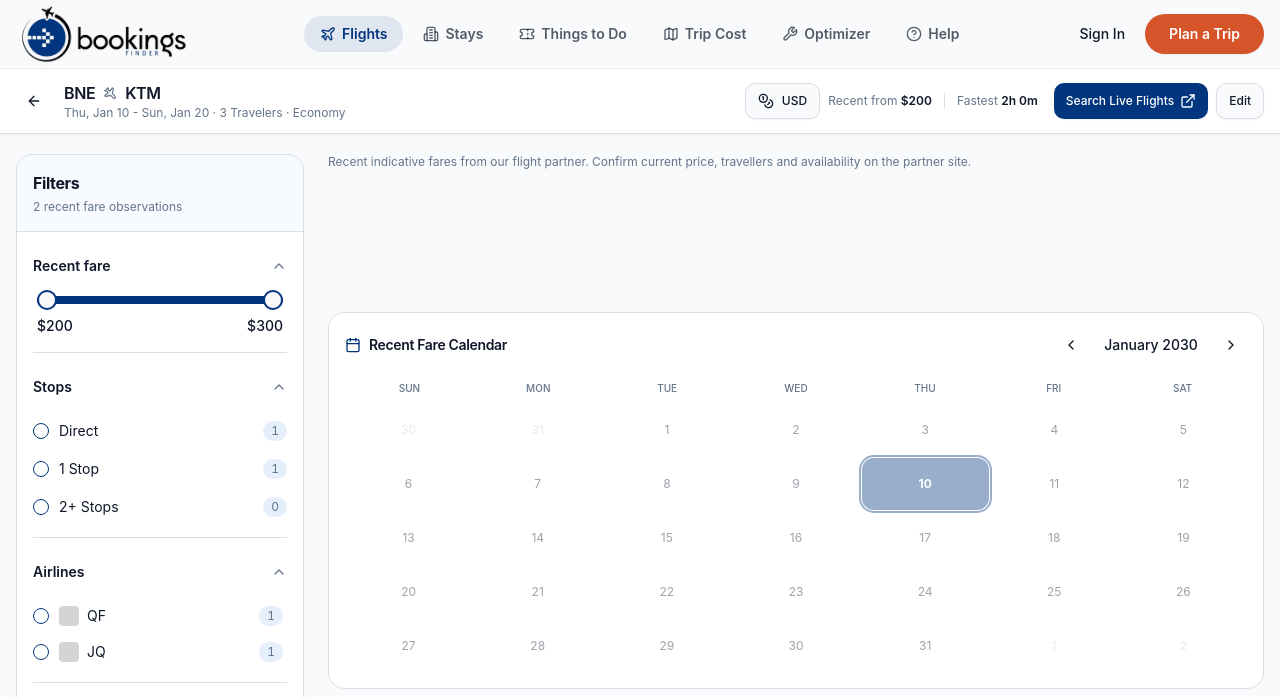
Test: FlightResults desktop Edit — write boundary › hosts the desktop search form in the Edit panel
Click the button "Edit".
click(1240, 101)  # box [1216, 83, 1264, 119]
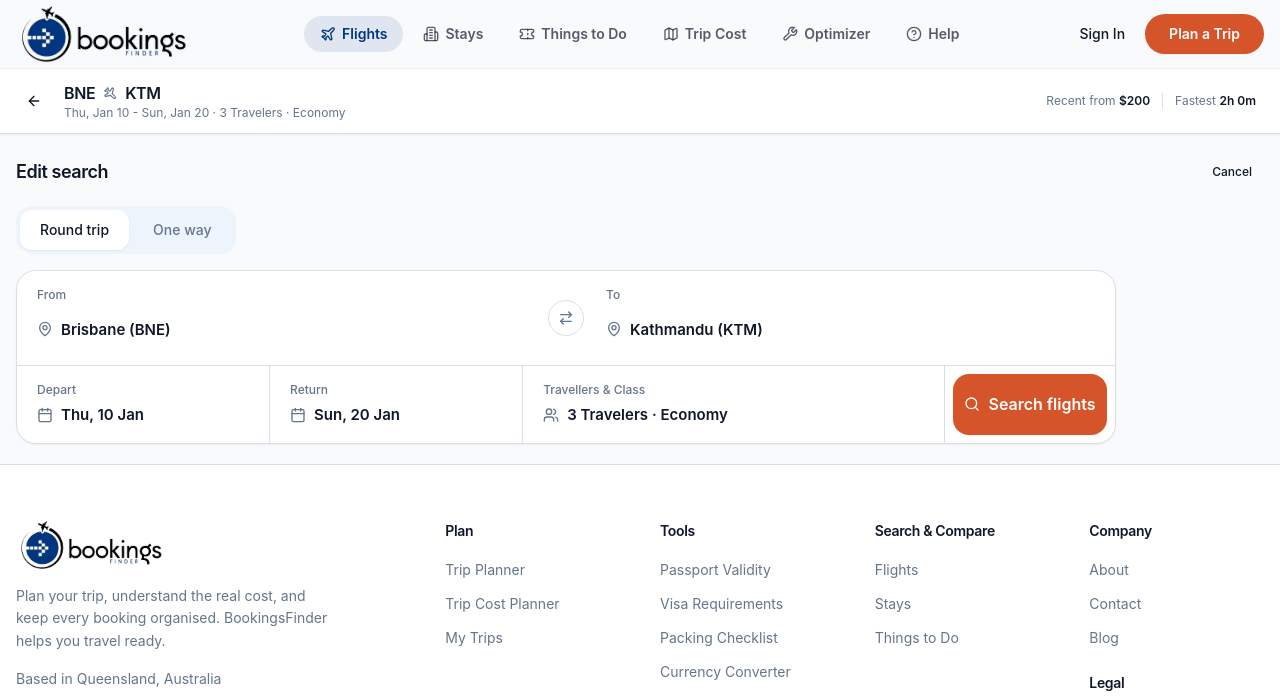
Expected: the element "Edit search" is shown, [16, 154, 1264, 444]
Expected: the button "Search flights" is shown, [953, 374, 1107, 434]
